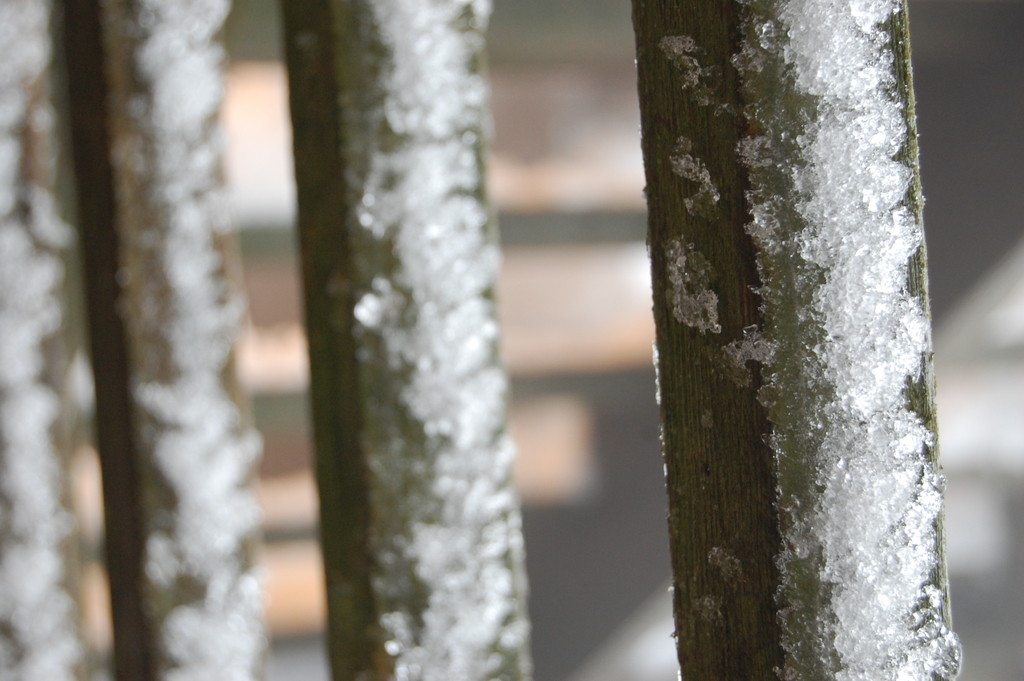Tree: (628, 0, 963, 681), (277, 0, 531, 681), (68, 0, 264, 681), (0, 0, 86, 679)
